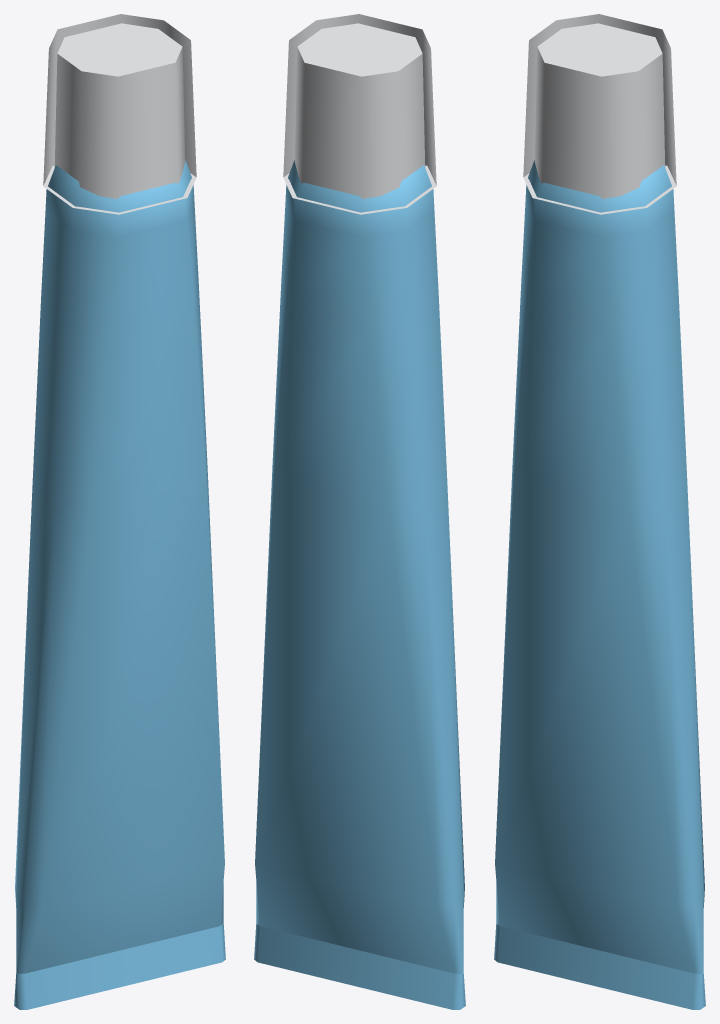
The model's file is Lotion Tube-tacHJc7TlK.glb.
3 renders of one model, left to right at view 1: azimuth 30°, elevation 25°; view 2: azimuth 150°, elevation 25°; view 3: azimuth 330°, elevation 25°, orthographic.
Parts seen in each view (by area): view 1: lotion_tube.002, lotion_tube_cap.002; view 2: lotion_tube.002, lotion_tube_cap.002; view 3: lotion_tube.002, lotion_tube_cap.002.
Boxes of the visible parts, box(x1,y1,x2,y2) form: lotion_tube.002: box(14, 160, 225, 1009); lotion_tube_cap.002: box(43, 14, 196, 214); lotion_tube.002: box(254, 160, 465, 1009); lotion_tube_cap.002: box(283, 14, 436, 214); lotion_tube.002: box(494, 160, 705, 1009); lotion_tube_cap.002: box(523, 14, 676, 214).
Bounding box in the file's own units: 6.13 × 26.66 × 3.43.
1 material, 1 textured.
